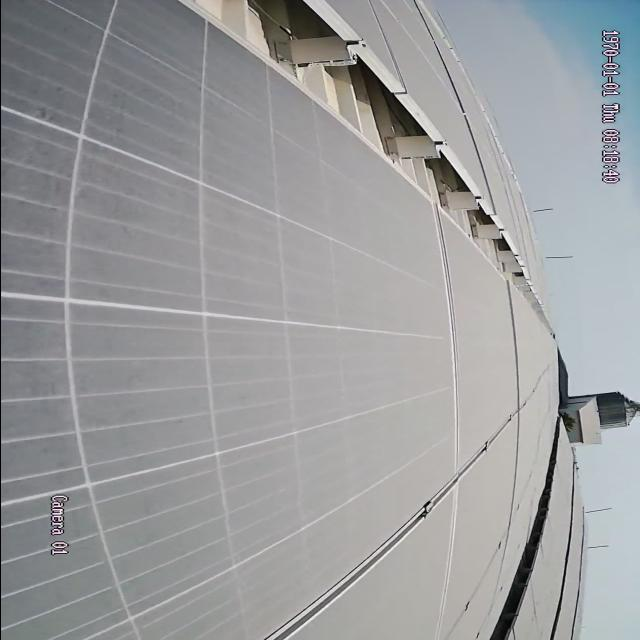interior panel: (259, 409, 522, 640)
outher panel: (168, 0, 546, 324), (489, 473, 556, 639)
